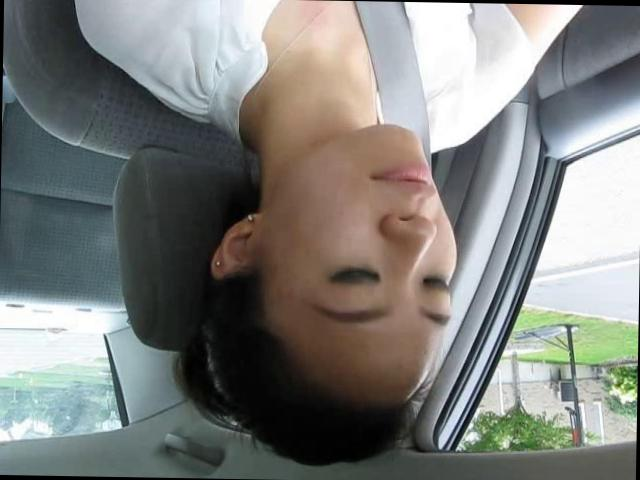eye_closed: (317, 253, 386, 295), (416, 264, 456, 298)
face: (274, 120, 467, 346)
